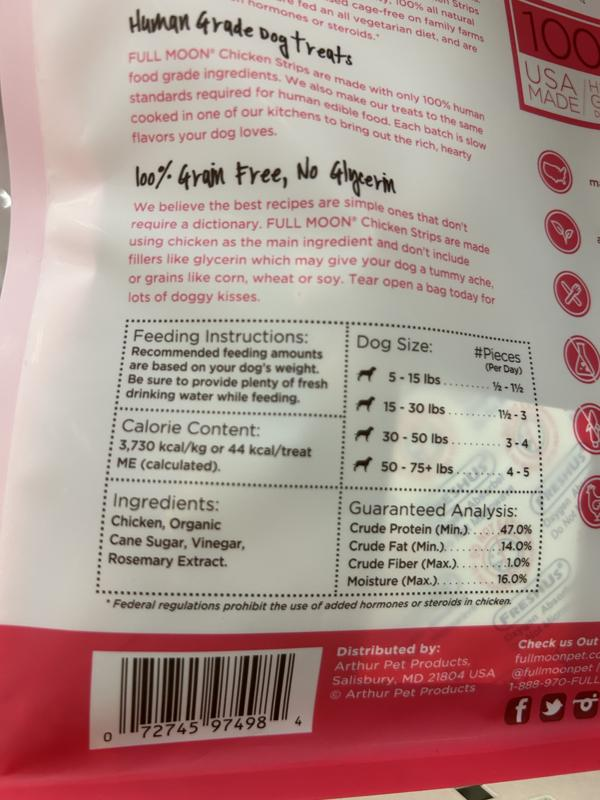ingredients: (105, 490, 246, 570)
